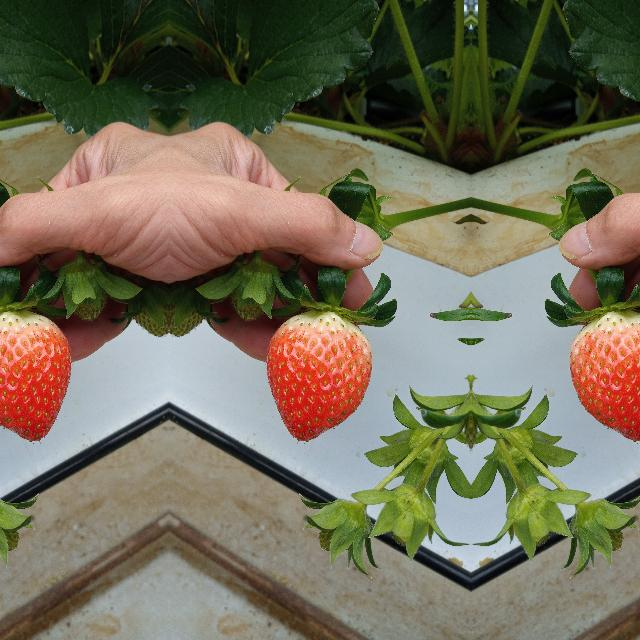Health_100: (265, 309, 373, 443), (568, 309, 640, 443), (0, 309, 71, 443)
